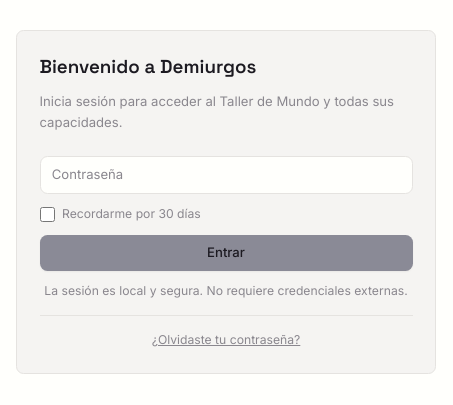
Test: LoginScreen (credentials vault mode) › surfaces the server error for a wrong password
The width and height of the screenshot is (453, 405).
Type "incorrecta" into the password field labelled "Contraseña" at (226, 175), box [40,156,412,194]
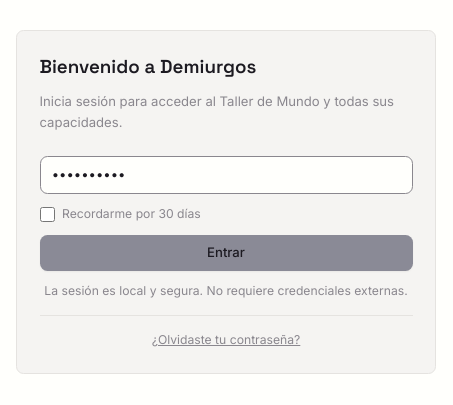
Click the button "Entrar" at (226, 253), box [40,235,412,271]
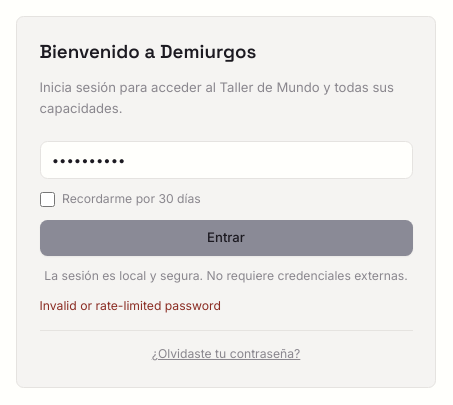
Result: the text "Invalid or rate-limited password" is shown at [40,298,221,313]
